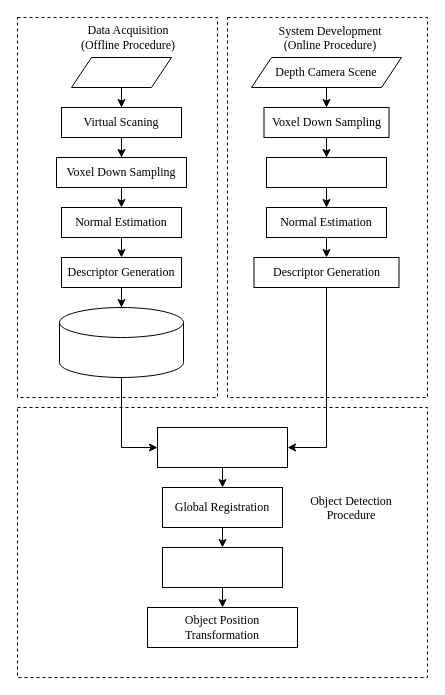
The diagram is 445 pixels wide and 695 high, and some of its shapes have lost their labels. Here are the shapes that lost their labels. From the top down, the box of each, then its label:
(70, 56, 172, 88): CAD Model
(266, 156, 386, 188): Remove Outlier
(58, 306, 184, 378): Reference Partial View Database
(156, 426, 288, 468): Feature Correspondence Matching
(162, 546, 282, 588): ICP registration
